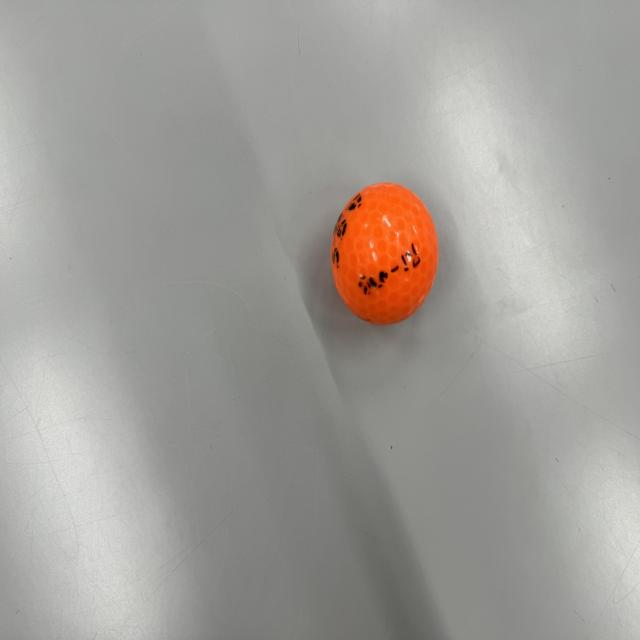ball: (326, 175, 449, 331)
